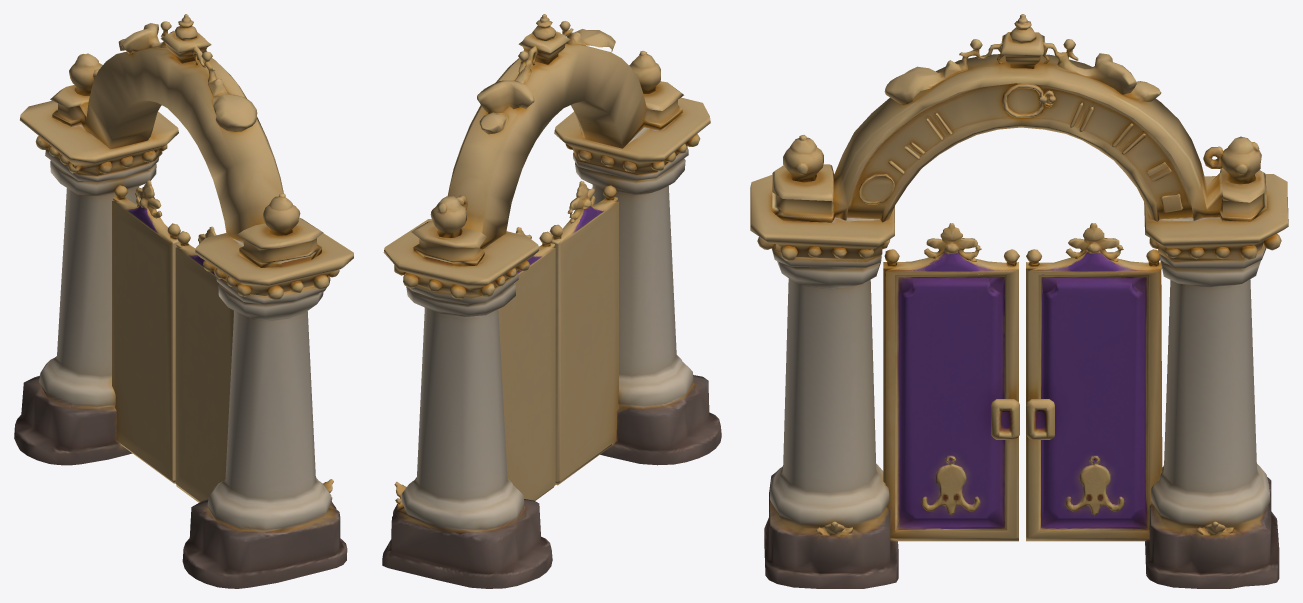
Rendered from r33-gate.glb.
3 renders of one model, left to right at view 1: azimuth 30°, elevation 25°; view 2: azimuth 150°, elevation 25°; view 3: azimuth 270°, elevation 25°, orthographic. The views are drawn at different scales.
Visible parts, largest first — view 1: tripo_node_84205fe9-2716-4af6-aa6f-b5ae827f90cb; view 2: tripo_node_84205fe9-2716-4af6-aa6f-b5ae827f90cb; view 3: tripo_node_84205fe9-2716-4af6-aa6f-b5ae827f90cb.
Part boxes in pixels (x1=…): tripo_node_84205fe9-2716-4af6-aa6f-b5ae827f90cb: x1=14, y1=14, x2=353, y2=588; tripo_node_84205fe9-2716-4af6-aa6f-b5ae827f90cb: x1=382, y1=14, x2=721, y2=588; tripo_node_84205fe9-2716-4af6-aa6f-b5ae827f90cb: x1=750, y1=14, x2=1288, y2=588.
Bounding box in the file's own units: 0.3145 × 0.998 × 0.9004.
1 material, 1 textured.
